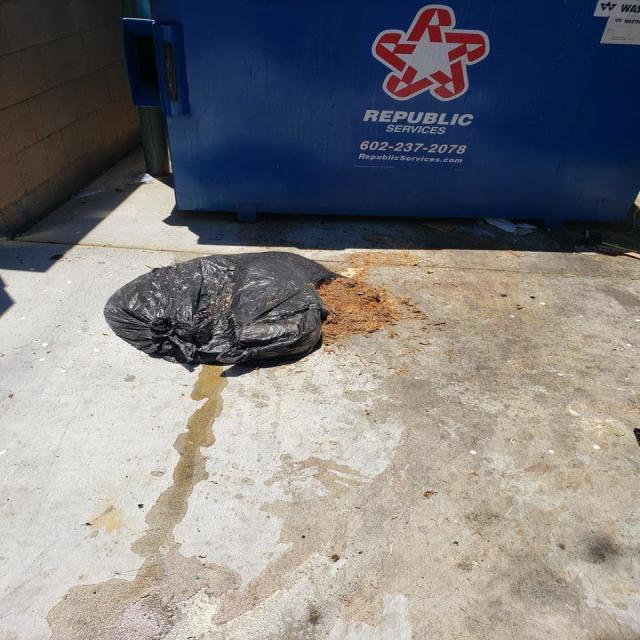trash: (86, 246, 431, 403)
